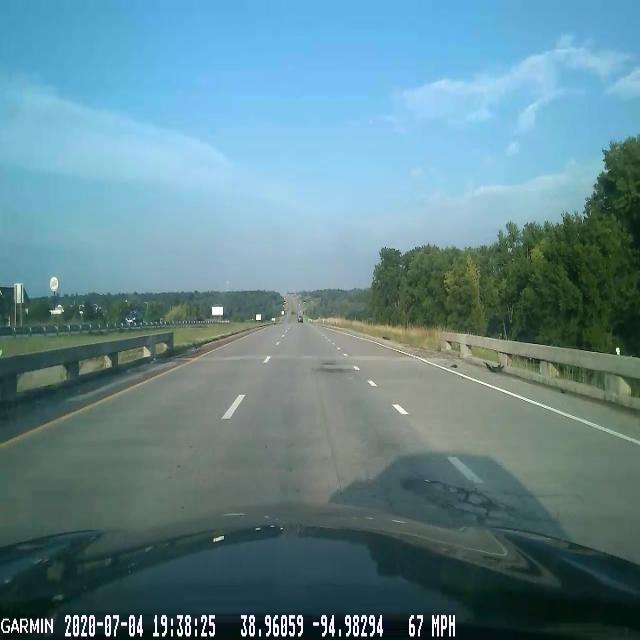Pothole: (399, 458, 518, 532)
